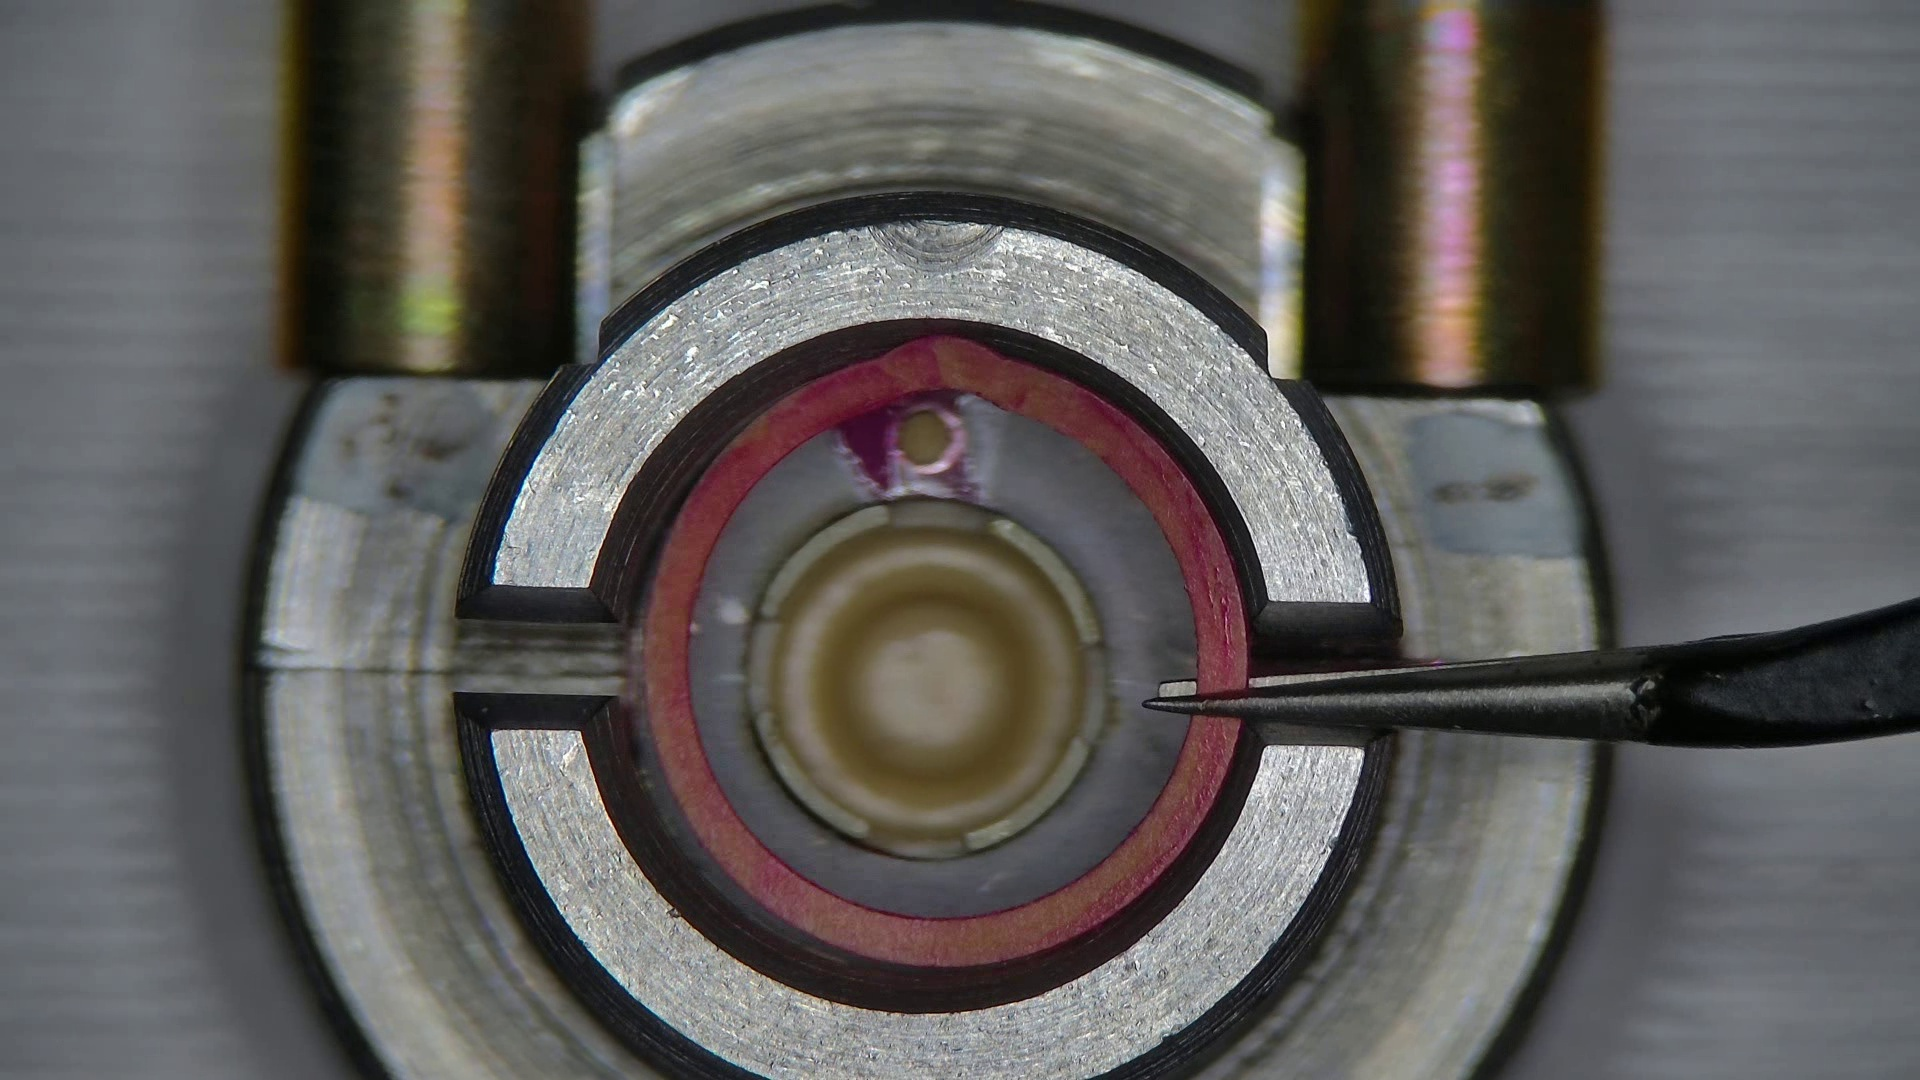GreyOring: (640, 338, 1247, 969)
YellowOring: (692, 397, 1189, 916), (630, 647, 822, 949), (688, 647, 698, 682), (880, 965, 910, 972)
